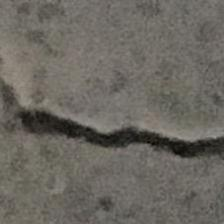Crack: (16, 82, 224, 182)
